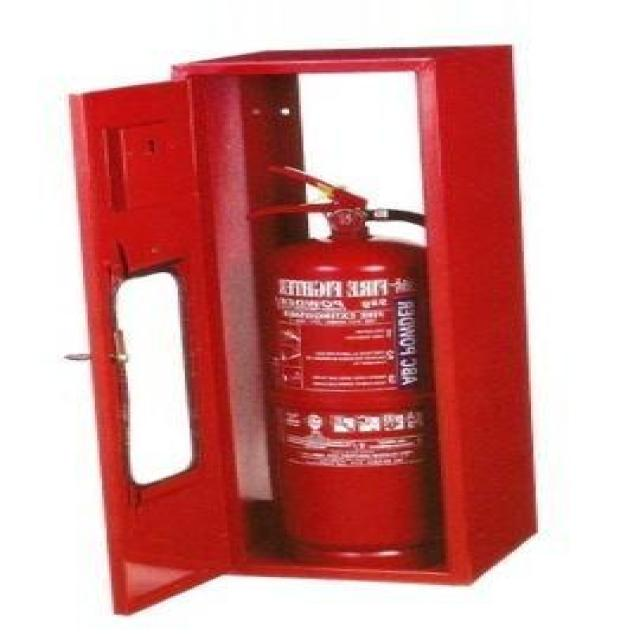fire_extinguisher: (238, 159, 475, 571)
